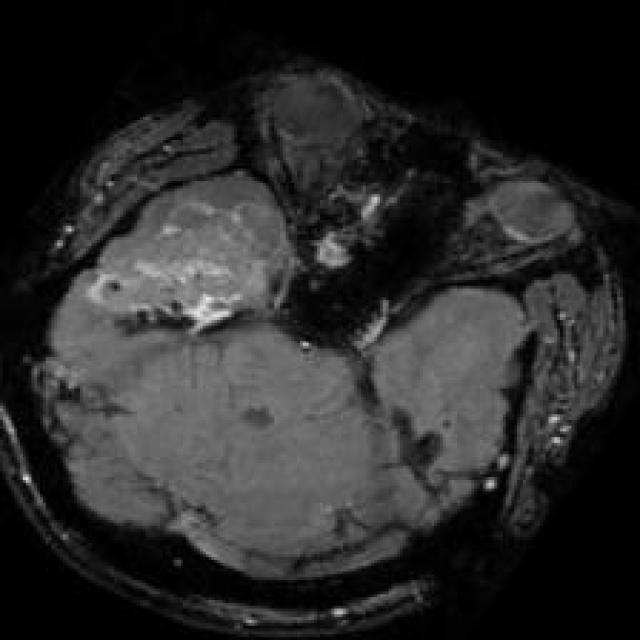glioma_tumor: (55, 167, 302, 344)
